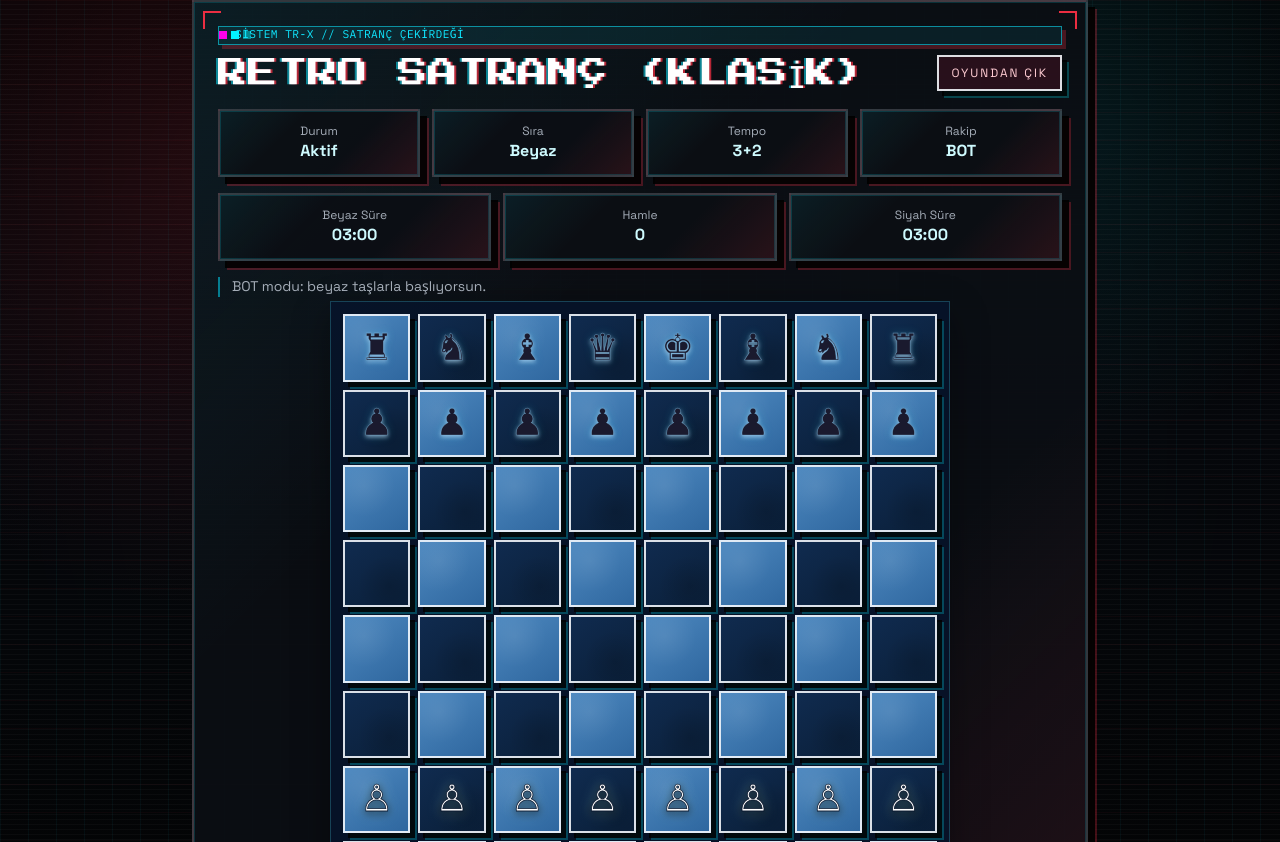
Test: RetroChess (classic) › renders classic board and allows legal player move in bot mode
Click the button with test id "retro-chess-square-e2" at (678, 799), box [644,766,711,833]
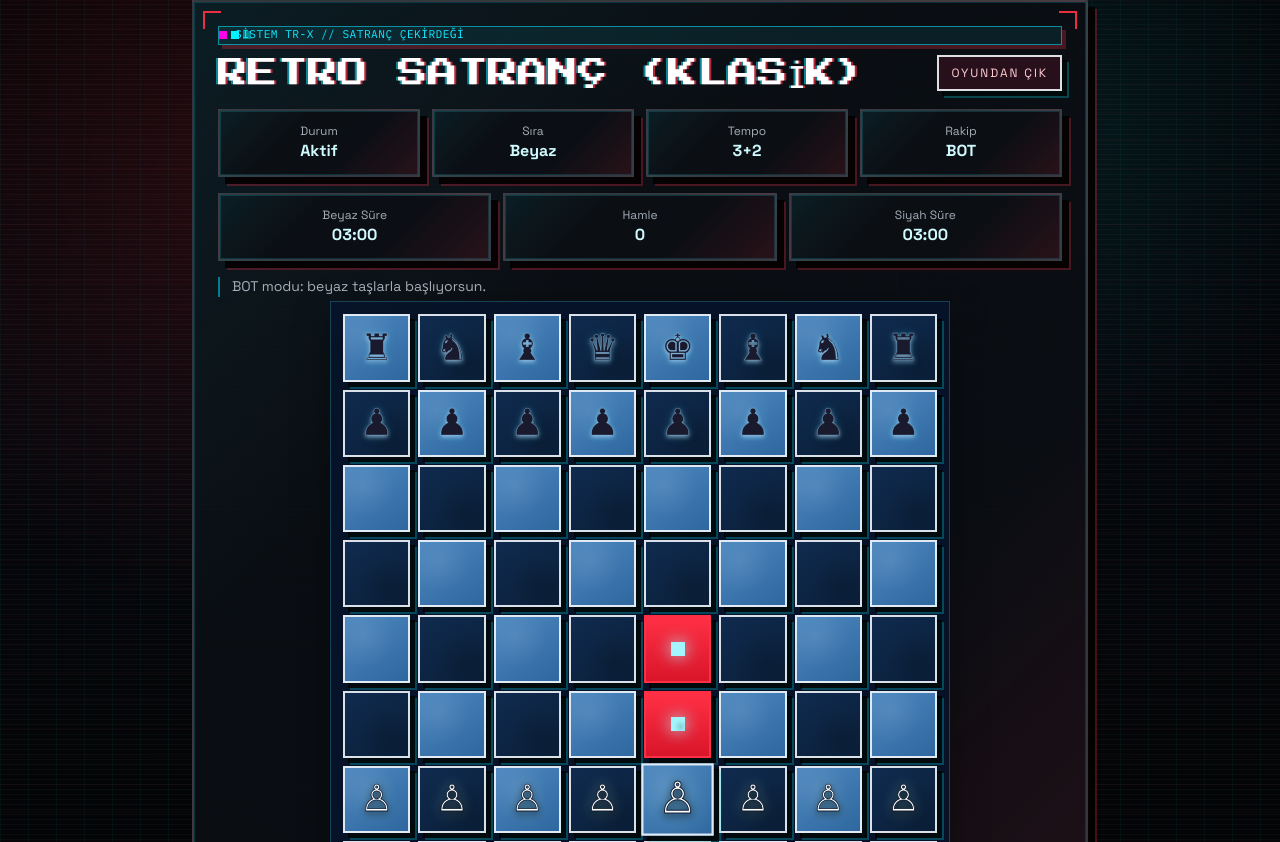
Click the button with test id "retro-chess-square-e4" at (678, 649), box [644,615,711,683]
Wait 600 ms
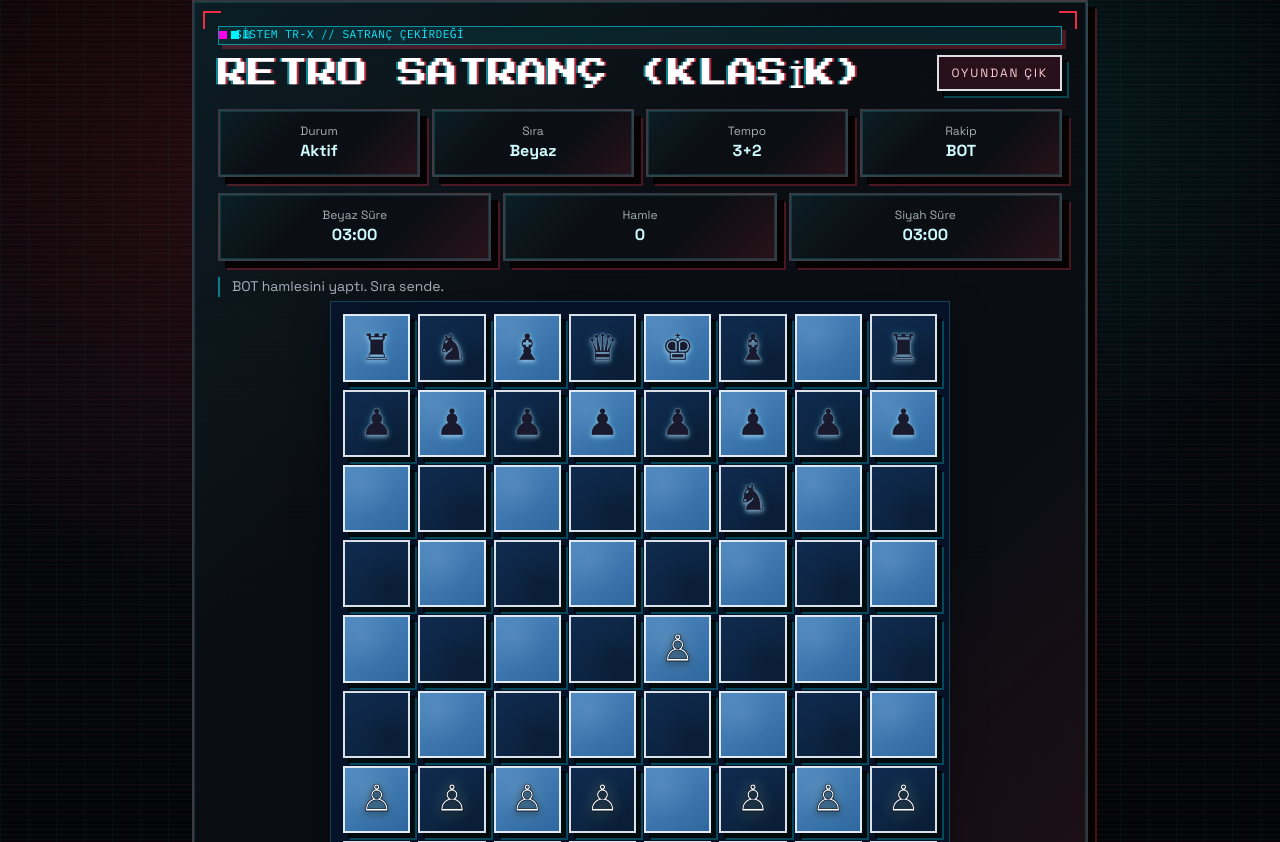
Result: the text "BOT hamlesini yaptı. Sıra sende." is shown at [218,277,1062,297]
